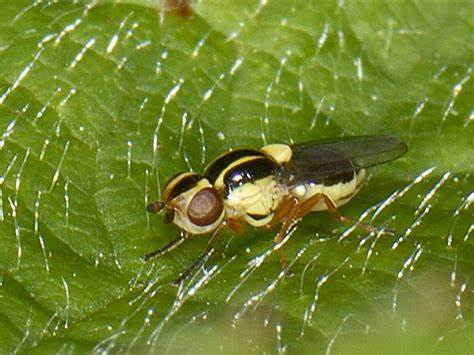Chloropidae: (139, 128, 406, 287)
